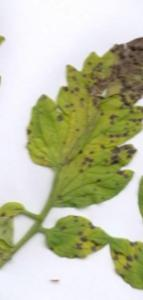Tomato Septoria leaf spot: (0, 0, 143, 229), (33, 196, 116, 279)
